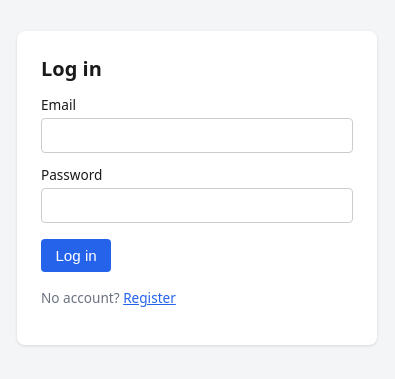
Test case: LoginPage › shows an invalid-credentials error on 401 and does not redirect
Type "a@b.c" into the field labelled "Email" at (197, 136), box [41,118,353,153]
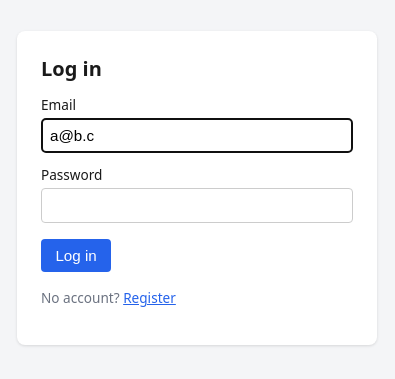
Type "wrong" into the password field labelled "Password" at (197, 206), box [41,188,353,223]
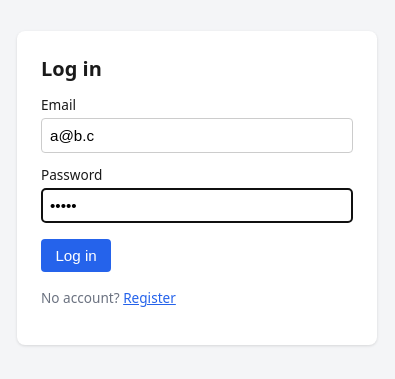
Click the button "Log in" at (76, 256), box [41,239,111,272]
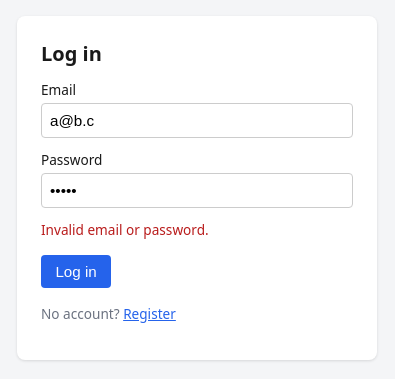
Now the text "Invalid email or password." is shown, box [41,220,209,239]
